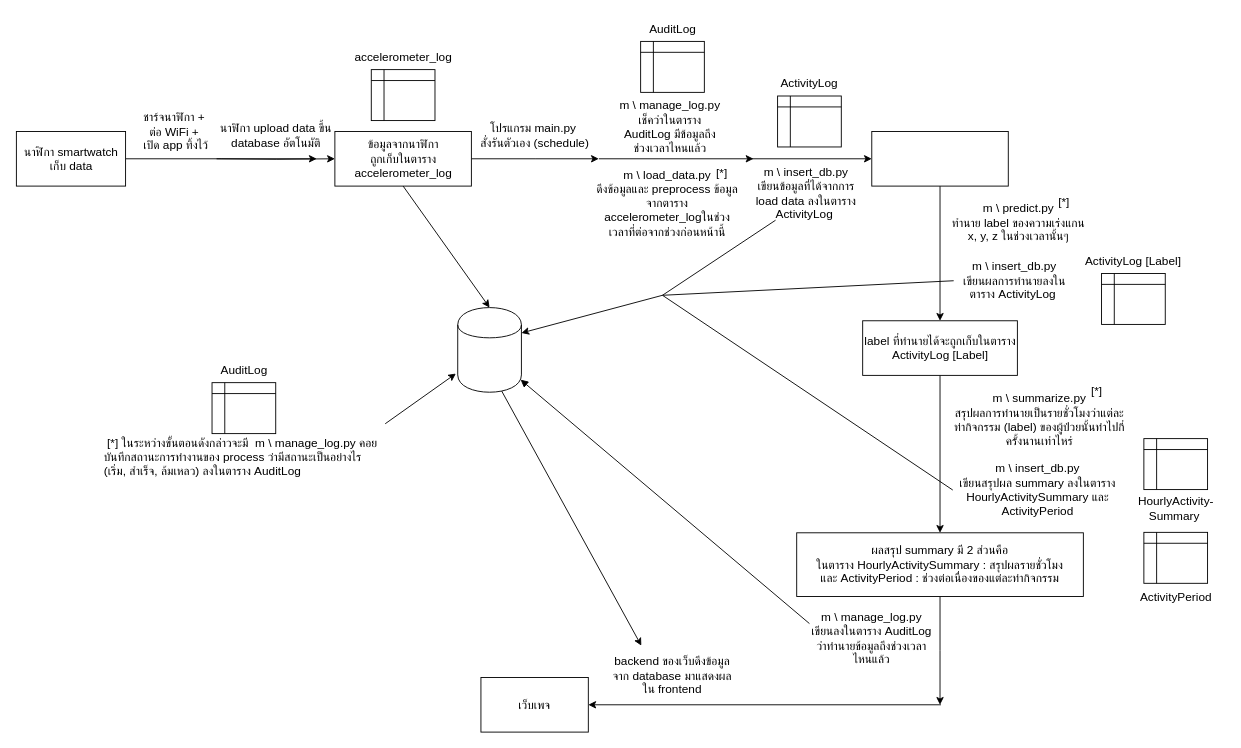
Some shapes in this 1241 by 748 pixel diagram are drawn without their labels. The shapes that lost their labels are listed below. From the top down, each one's box as (x1, y1, x2, y2) in pixels, then its label:
(871, 131, 1008, 186): ข้อมูลที่ถูกดึงมาถูกเก็บในตาราง ActivityLog
(457, 307, 521, 392): DB
